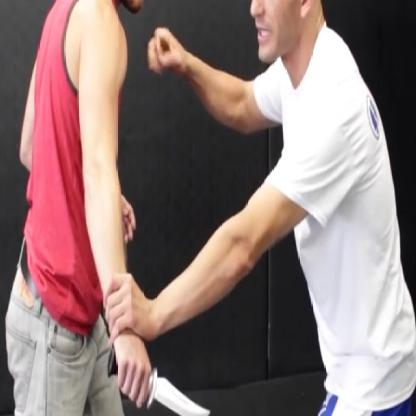knife: (98, 335, 219, 415)
